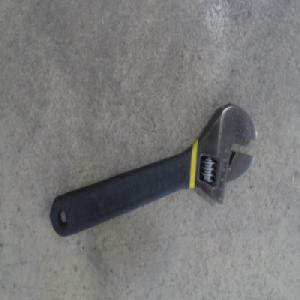AdjustableWrench: (49, 103, 256, 238)
